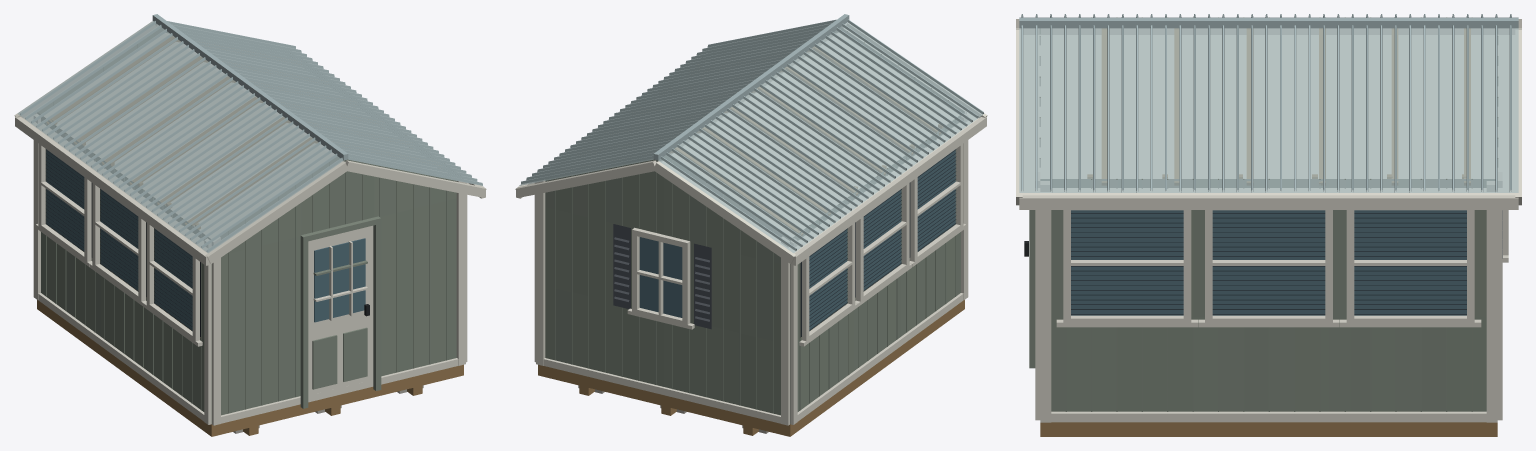
Rendered from 14-greenhouse-shutters.glb.
The picture shows the model from 3 angles, left to right: view 1: azimuth 30°, elevation 25°; view 2: azimuth 150°, elevation 25°; view 3: azimuth 270°, elevation 25°; orthographic projection. The views are drawn at different scales.
Visible parts, largest first — view 1: Main roof, front wall, left wall, left wall screen, front wall entry, Floor platform and skids, Visible greenhouse framing, rear wall; view 2: Main roof, rear wall, left wall, left wall screen, rear wall window, Floor platform and skids, Visible greenhouse framing, Louvered window shutters, front wall; view 3: Main roof, right wall, right wall screen, Floor platform and skids, Visible greenhouse framing, front wall, rear wall, front wall entry.
Boxes of the visible parts, x1,y1,x2,y2 form: Main roof: (14, 14, 486, 265); front wall: (211, 156, 465, 425); left wall: (33, 112, 211, 424); left wall screen: (35, 143, 202, 346); front wall entry: (300, 216, 381, 408); Floor platform and skids: (37, 277, 463, 436); Visible greenhouse framing: (46, 36, 317, 337); rear wall: (38, 28, 169, 276); Main roof: (515, 14, 987, 265); rear wall: (536, 155, 790, 425); left wall: (790, 112, 968, 424); left wall screen: (799, 143, 966, 346); rear wall window: (627, 227, 694, 329); Floor platform and skids: (538, 283, 964, 436); Visible greenhouse framing: (669, 46, 942, 318); Louvered window shutters: (613, 224, 711, 329); front wall: (834, 27, 966, 273); Main roof: (1016, 14, 1521, 209); right wall: (1040, 179, 1497, 422); right wall screen: (1056, 210, 1481, 327); Floor platform and skids: (1040, 422, 1497, 436); Visible greenhouse framing: (1087, 28, 1470, 185); front wall: (1035, 29, 1040, 420); rear wall: (1497, 36, 1502, 420); front wall entry: (1024, 210, 1035, 368).
Size of the model in its own units: 3.39 by 3.1 by 4.05.
